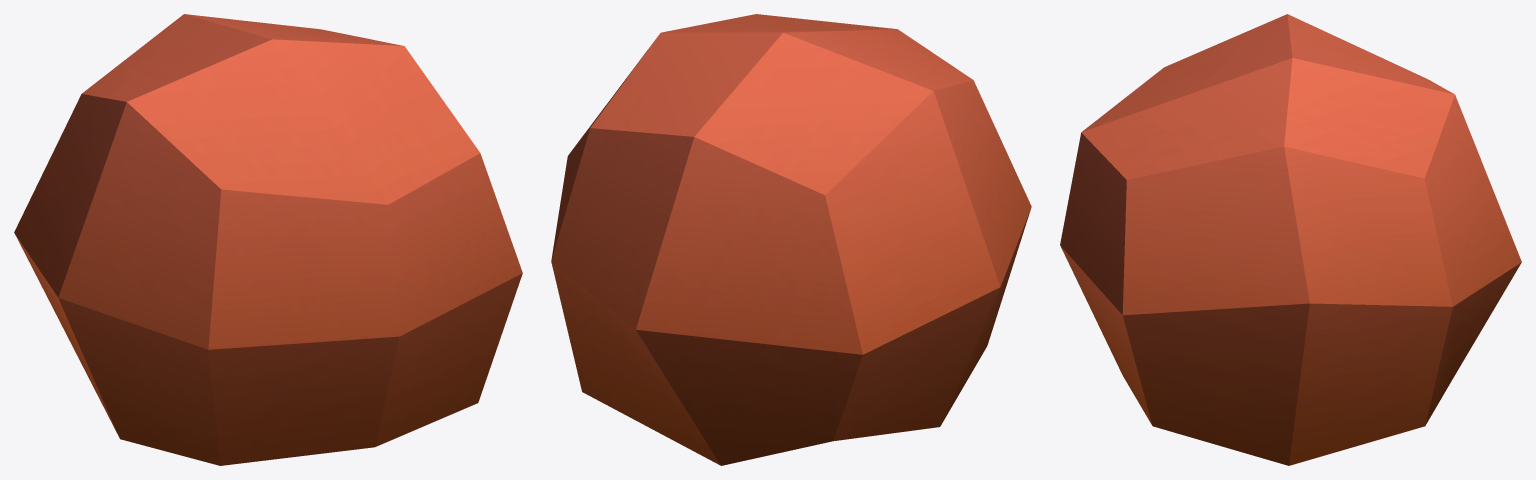
Rendered from fbx-dirt-chunk.fbx.
3 renders of one model, left to right at view 1: azimuth 30°, elevation 25°; view 2: azimuth 150°, elevation 25°; view 3: azimuth 270°, elevation 25°, orthographic. The views are drawn at different scales.
Parts seen in each view (by area): view 1: mesh-dirt-chunk; view 2: mesh-dirt-chunk; view 3: mesh-dirt-chunk.
Boxes of the visible parts, x1,y1,x2,y2 form: mesh-dirt-chunk: [14, 14, 522, 465]; mesh-dirt-chunk: [551, 14, 1031, 465]; mesh-dirt-chunk: [1060, 14, 1521, 465].
Bounding box in the file's own units: 0.4302 × 0.3911 × 0.4446.
